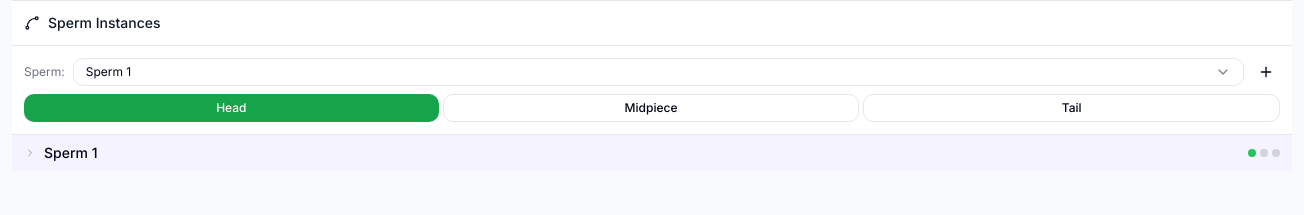
Scenario: SpermInstancePanel › Instance creation › shows the new instance in the list after creation
Click the button titled "New Instance".
click(1266, 72)  # box [1252,58,1280,86]
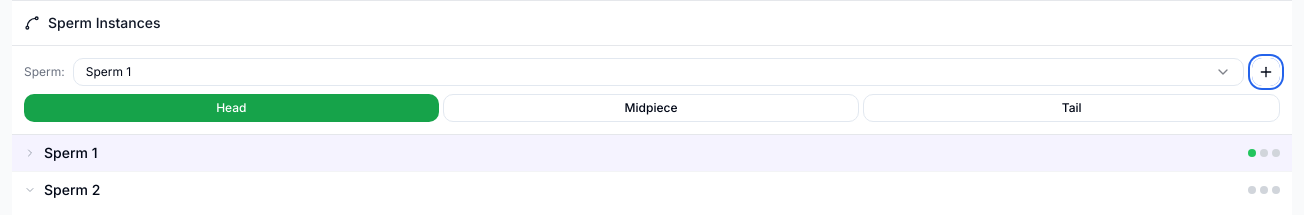
Expected: the text "Sperm 2" is shown, [44,181,100,198]
